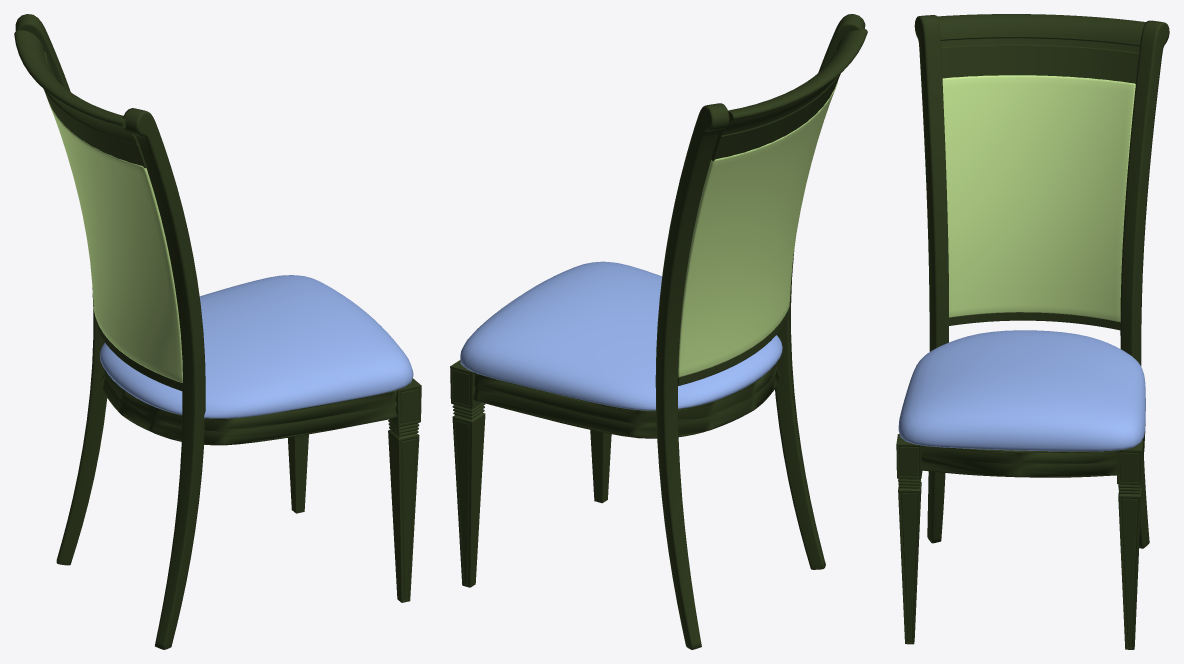
File: SM_Chair.FBX
3 renders of one model, left to right at view 1: azimuth 30°, elevation 25°; view 2: azimuth 150°, elevation 25°; view 3: azimuth 270°, elevation 25°, orthographic. The views are drawn at different scales.
Parts seen in each view (by area): view 1: Plane03, Box02, Box01, Line03, Box05, Line01, Box04, Box06, Box03; view 2: Plane03, Box02, Box04, Line03, Line01, Box06, Box01, Box05, Box03; view 3: Box02, Plane03, Line01, Box01, Box04, Line03, Box06, Box05, Box03.
Part boxes in pixels (x1,y1,x2,y2): Plane03: (99, 275, 413, 418); Box02: (46, 96, 182, 382); Box01: (123, 108, 205, 649); Line03: (102, 368, 397, 445); Box05: (388, 378, 421, 602); Line01: (14, 30, 146, 168); Box04: (15, 14, 107, 565); Box06: (288, 434, 308, 513); Box03: (95, 317, 182, 390); Plane03: (460, 261, 782, 410); Box02: (678, 81, 837, 377); Box04: (655, 103, 729, 649); Line03: (473, 361, 779, 438); Line01: (711, 28, 867, 160); Box06: (450, 360, 485, 587); Box01: (775, 14, 865, 569); Box05: (590, 430, 611, 503); Box03: (678, 311, 787, 385); Box02: (942, 75, 1135, 322); Plane03: (898, 330, 1145, 451); Line01: (937, 14, 1145, 84); Box01: (914, 15, 948, 543); Box04: (1120, 20, 1169, 548); Line03: (921, 425, 1145, 477); Box06: (1116, 440, 1143, 649); Box05: (896, 434, 922, 644); Box03: (949, 312, 1120, 330).
Bounding box in the file's own units: 109 × 180 × 87.28.
